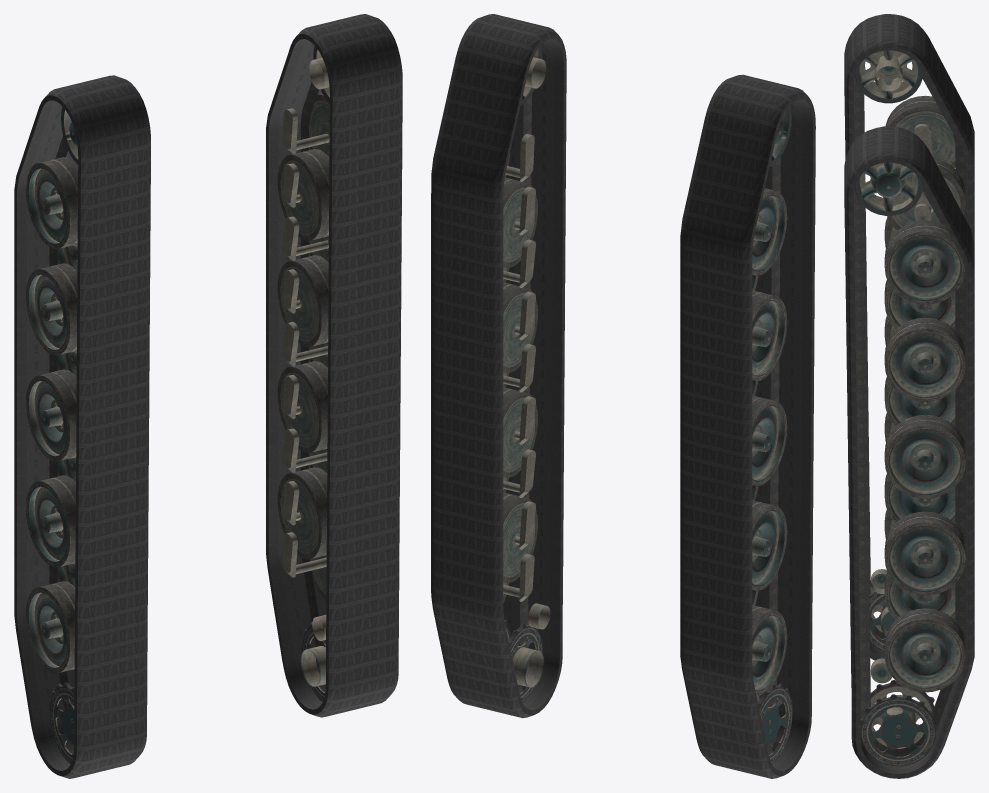
Rendered from Chassis.glb.
The picture shows the model from 3 angles, left to right: view 1: azimuth 30°, elevation 25°; view 2: azimuth 150°, elevation 25°; view 3: azimuth 270°, elevation 25°; orthographic projection. The views are drawn at different scales.
Parts seen in each view (by area): view 1: set_3_group_0, set_2_group_0, set_0_group_0, set_1_group_0; view 2: set_3_group_0, set_2_group_0, set_0_group_0, set_1_group_0; view 3: set_0_group_0, set_2_group_0, set_3_group_0, set_1_group_0.
Part boxes in pixels (x1,y1,x2,y2): set_3_group_0: (14,75,150,778); set_2_group_0: (266,14,402,717); set_0_group_0: (277,46,329,701); set_1_group_0: (26,106,78,763); set_3_group_0: (680,74,815,778); set_2_group_0: (431,14,566,718); set_0_group_0: (503,45,550,702); set_1_group_0: (752,106,792,763); set_0_group_0: (854,162,965,766); set_2_group_0: (844,126,974,778); set_3_group_0: (844,14,974,660); set_1_group_0: (854,50,965,651).
Size of the model in its own units: 3.4 by 6.93 by 1.3.
Materials: 4 (4 with a texture image).
